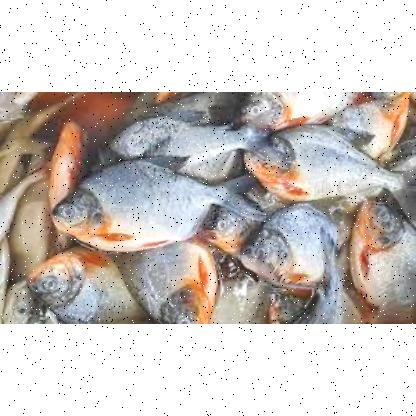ikan-pacu: (54, 162, 224, 244), (245, 126, 395, 198), (26, 248, 138, 322), (350, 200, 416, 320), (244, 198, 336, 282), (133, 242, 221, 324), (238, 90, 360, 128)
